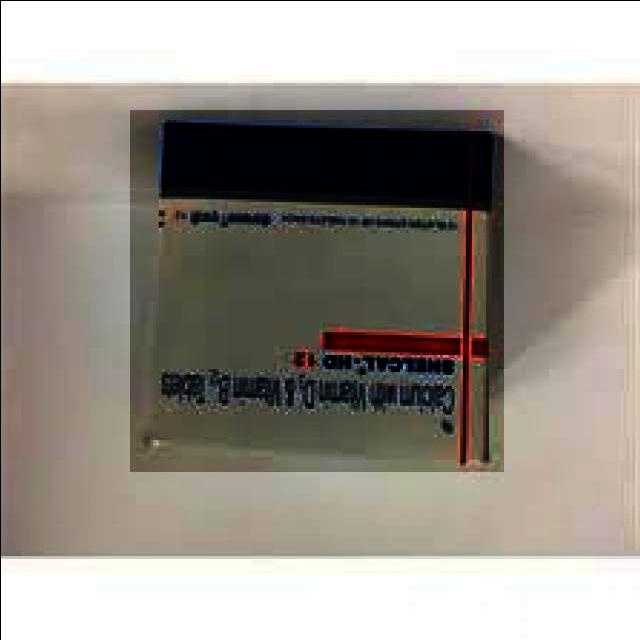authentic: (129, 109, 503, 471)
